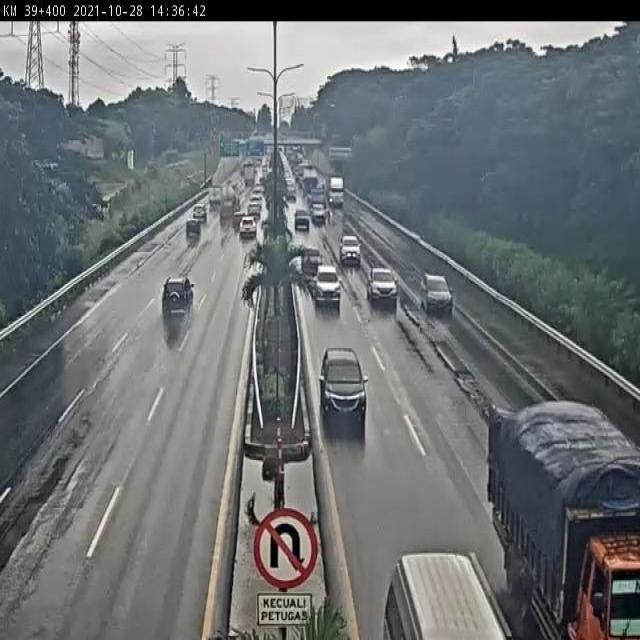car: (322, 349, 365, 432), (603, 409, 640, 480), (164, 273, 203, 335), (411, 263, 452, 301), (351, 259, 396, 293), (314, 262, 341, 298), (348, 219, 369, 260), (299, 241, 321, 267), (242, 216, 262, 243), (178, 222, 198, 242)
small bus: (452, 379, 629, 616), (395, 486, 486, 640)
